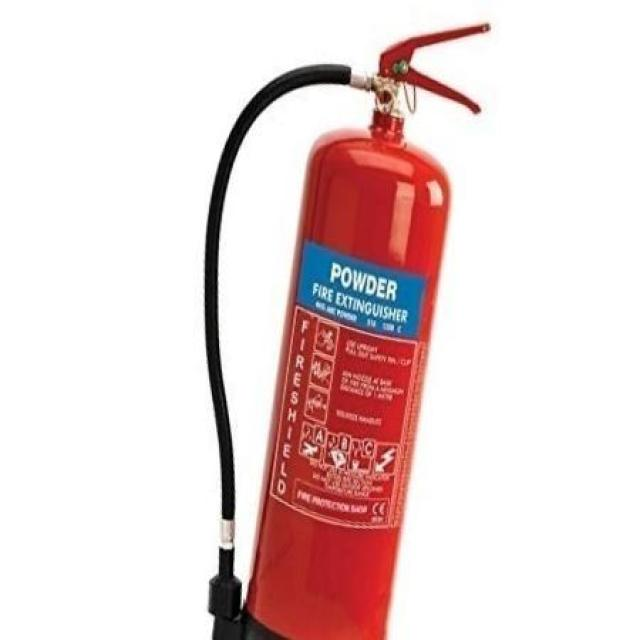fire_extinguisher: (196, 20, 492, 638)
